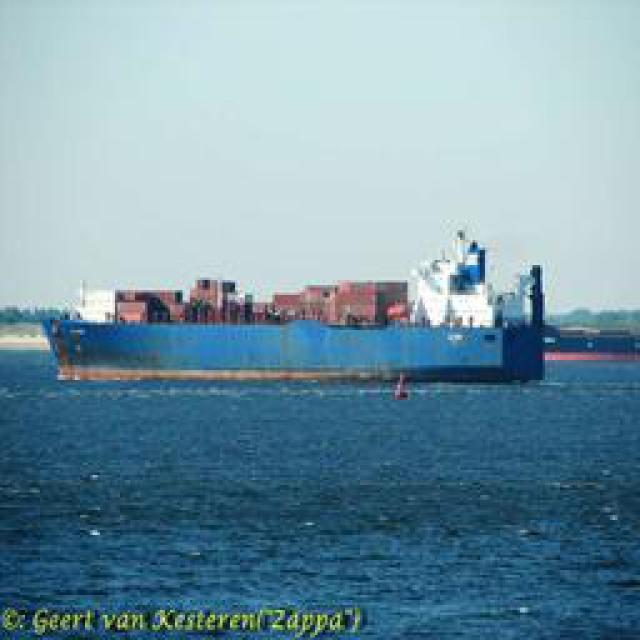Ship: (50, 229, 550, 389)
